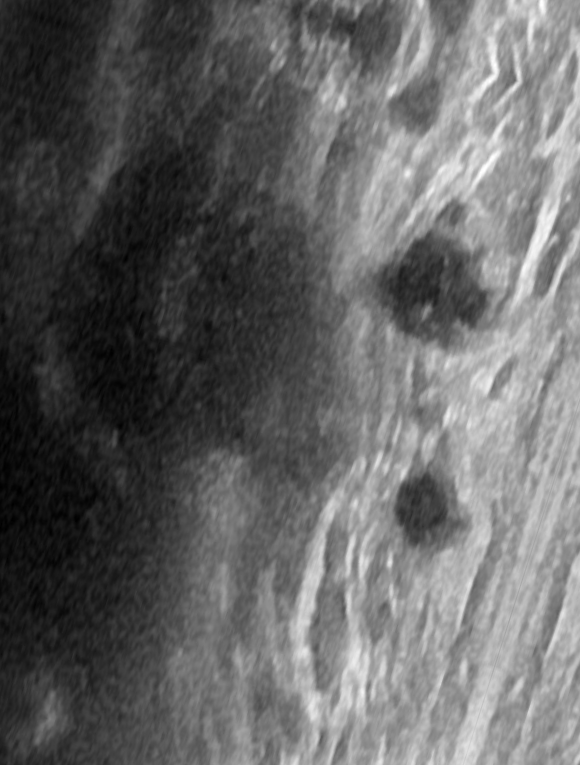Benign: (385, 469, 466, 551)
